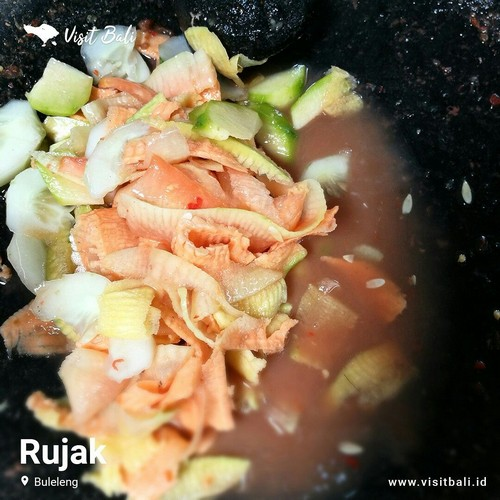rujak buleleng: (17, 73, 277, 406)
